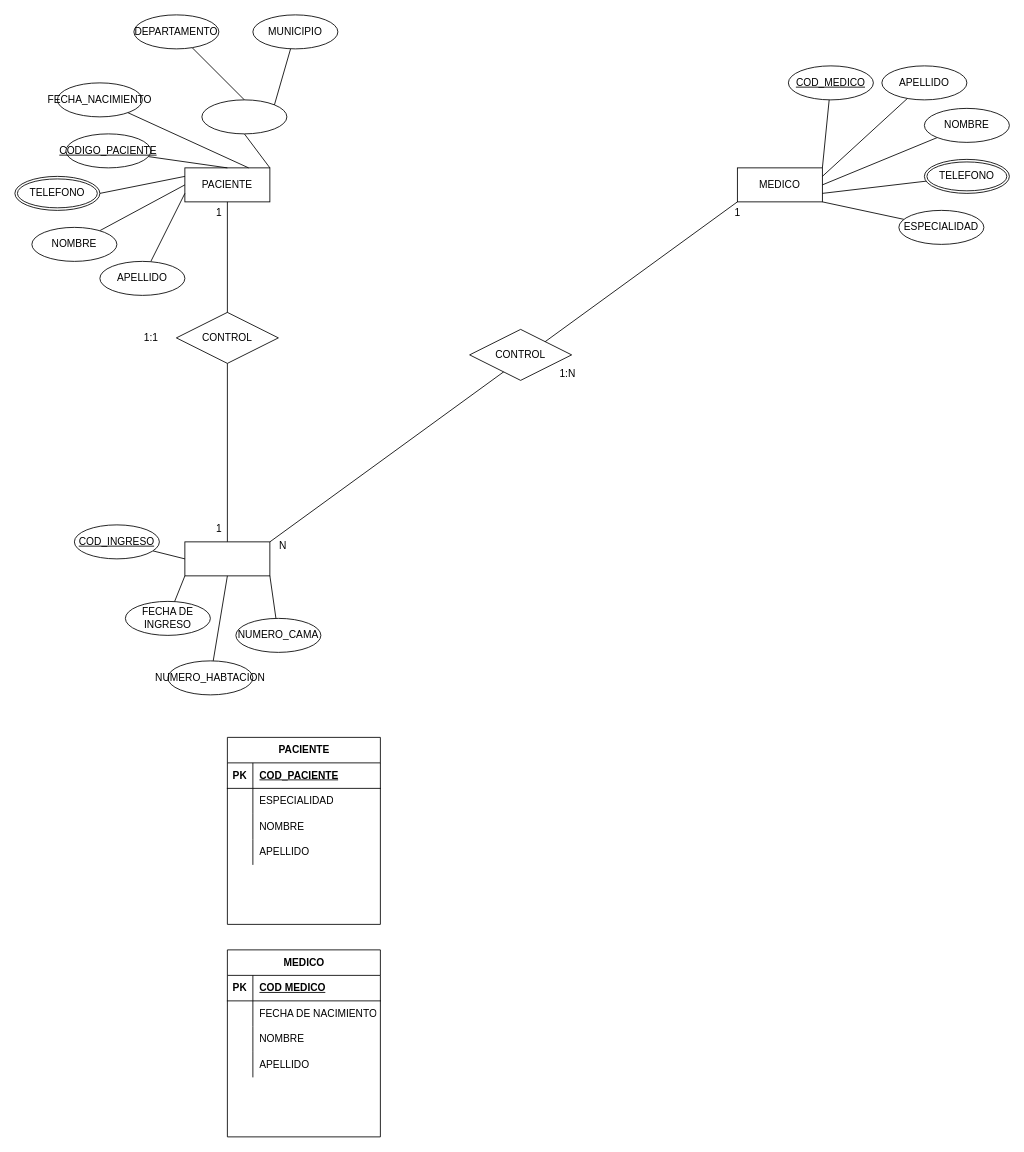
Image size: 1024x1152. Some labels were removed from this diagram. The centre of each missing label's shape, as x and y in pixels:
"DIRECCION" belongs at point 244,116.
"INGRESOS" belongs at point 227,558.
